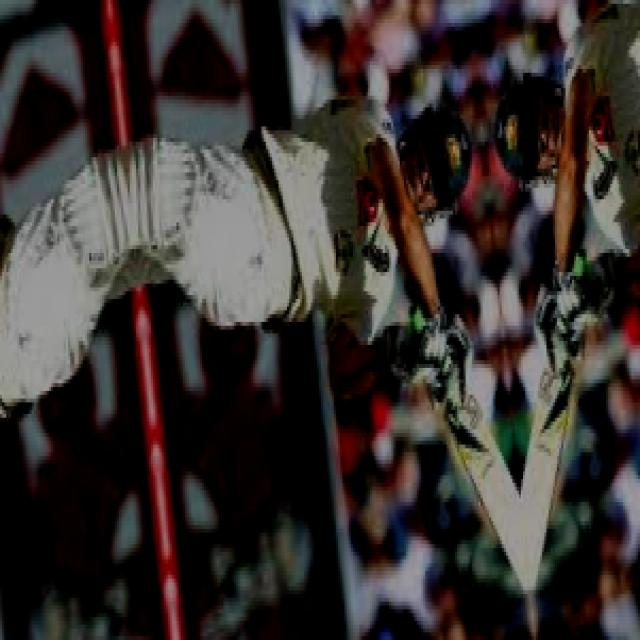toe: (514, 506, 525, 580)
